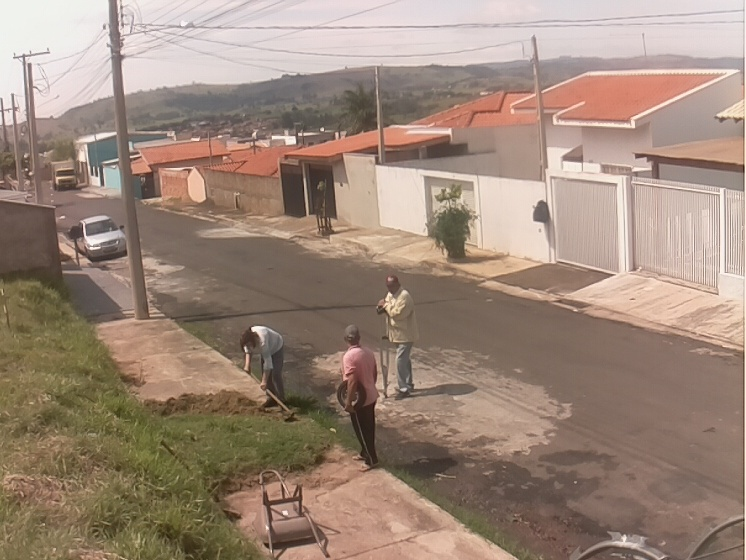person: (340, 323, 379, 469), (377, 274, 418, 399), (240, 325, 286, 406)
